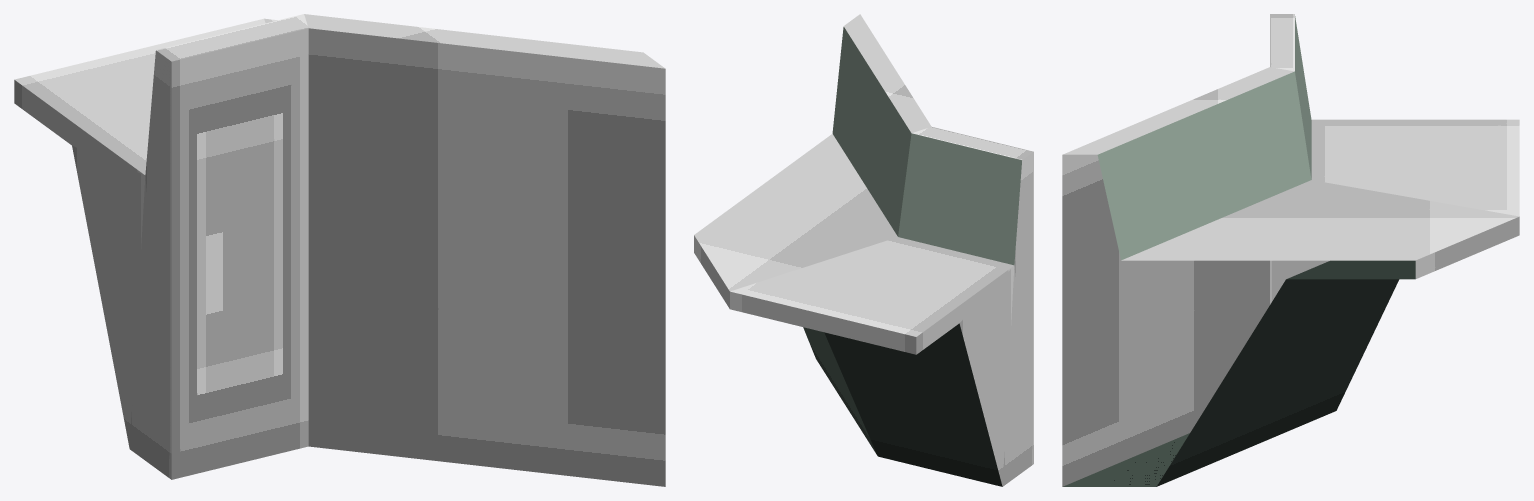
Rendered from run_desk_outside_bend_a_item.obj.
3 renders of one model, left to right at view 1: azimuth 30°, elevation 25°; view 2: azimuth 150°, elevation 25°; view 3: azimuth 270°, elevation 25°, orthographic. The views are drawn at different scales.
Size of the model in its own units: 1 by 1.1 by 1.37.
